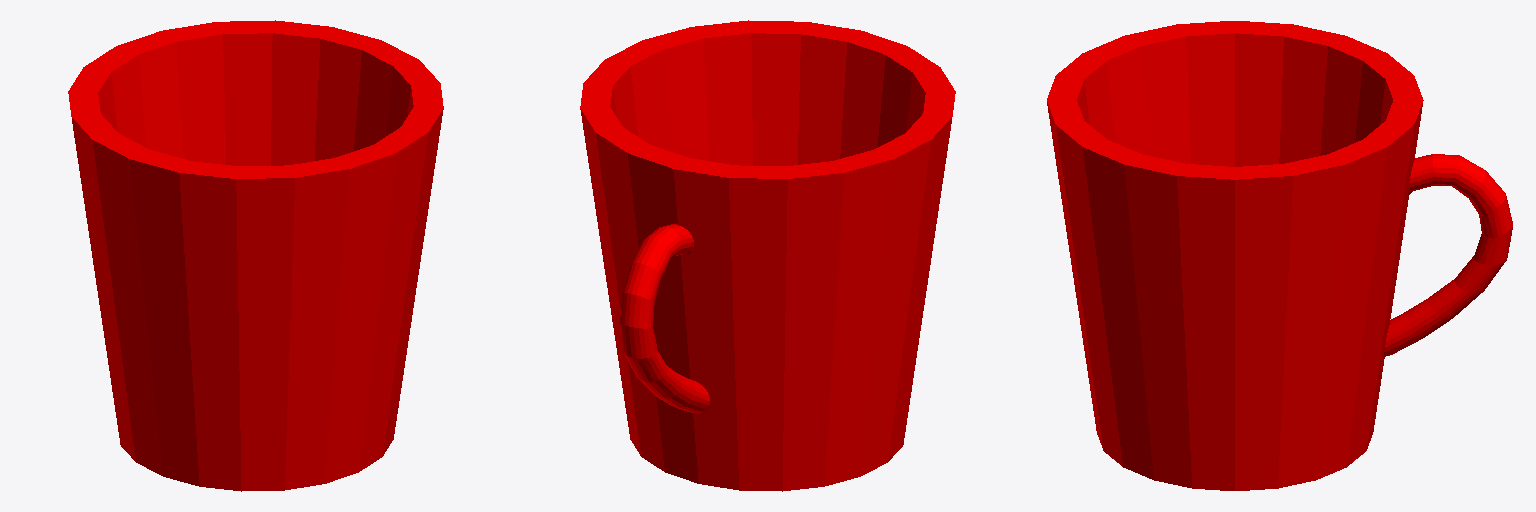
The robot description file, URDF, robot "mug.urdf":
<?xml version="1.0" ?>
<robot name="mug.urdf">
  <link concave="yes" name="baseLink">
    <inertial>
      <origin rpy="0 0 0" xyz="0 0 0"/>
       <mass value="1"/>
       <inertia ixx="1" ixy="0" ixz="0" iyy="1" iyz="0" izz="1"/>
    </inertial>
    <visual>
      <origin rpy="1.570796326794896619231 0 0" xyz="0 0 0"/>
      <geometry>
        <mesh filename="mug.obj" scale="0.002 0.002 0.002"/>
      </geometry>
      <material name="red">
       <color rgba="1 0 0 1"/>
     </material>
    </visual>
    <collision concave="yes">
      <origin rpy="1.570796326794896619231 0 0" xyz="0 0 0"/>
      <geometry>
        <mesh filename="mug.obj" scale="0.002 0.002 0.002"/>
      </geometry>
    </collision>
  </link>
</robot>
        

--- Render facts (derived) ---
The picture shows the robot from 3 angles, left to right: view 1: azimuth 30°, elevation 25°; view 2: azimuth 150°, elevation 25°; view 3: azimuth 270°, elevation 25°; orthographic projection.
Robot: mug.urdf — 1 links, 0 joints (none); root link baseLink; default pose: every joint at zero.
Visible links, largest first — view 1: baseLink; view 2: baseLink; view 3: baseLink.
Link boxes in pixels (bbox=[...]): baseLink: bbox=[68, 20, 443, 491]; baseLink: bbox=[580, 20, 955, 491]; baseLink: bbox=[1047, 21, 1512, 490].
Bounding box of the posed robot: 0.1478 × 0.183 × 0.144 m (x, y, z).
Meshes: 1 distinct files referenced, 1 mesh visuals loaded (1 OBJ).
